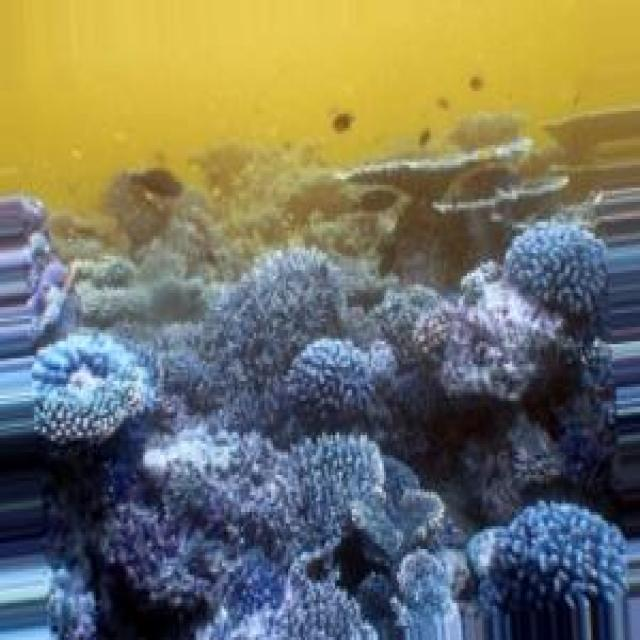Bleached: (442, 263, 564, 403), (34, 334, 154, 444)
Healthy: (102, 423, 461, 638), (205, 251, 342, 431), (468, 503, 627, 639), (285, 339, 399, 434), (506, 226, 609, 318)
